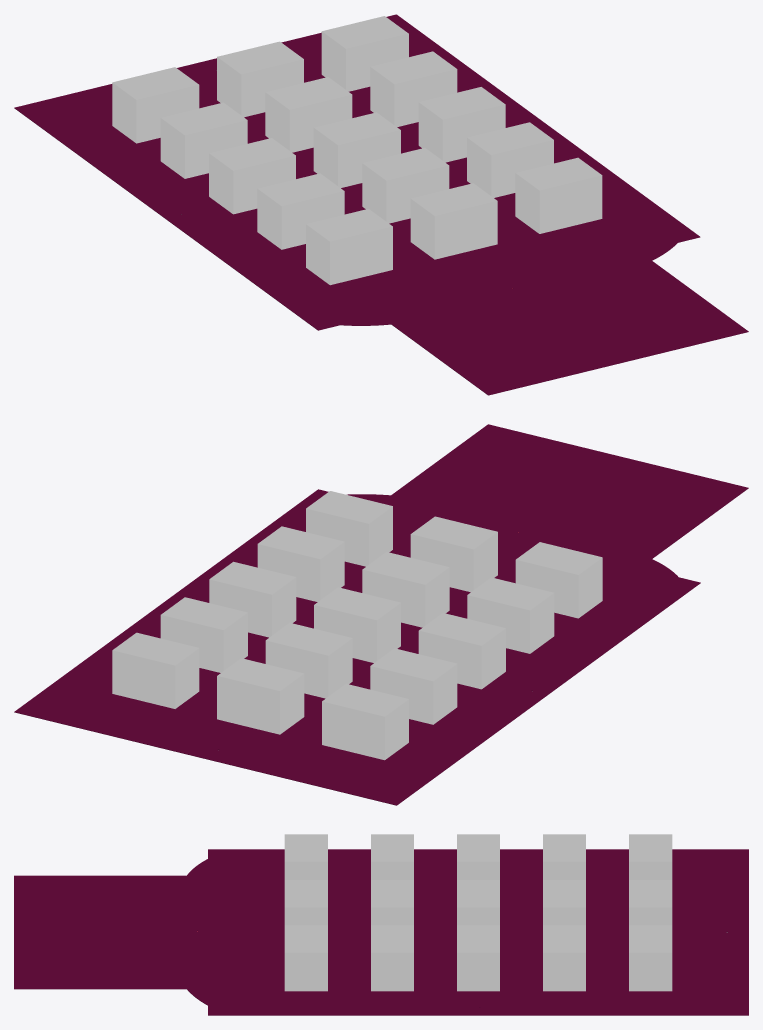
Rendered from njc-l2-hall-v6-8-5.glb.
The picture shows the model from 3 angles, top to bottom: view 1: azimuth 30°, elevation 25°; view 2: azimuth 150°, elevation 25°; view 3: azimuth 270°, elevation 25°; orthographic projection. The views are drawn at different scales.
Parts seen in each view (by area): view 1: Base, H1, H2, H3, H6, H15, H12, H9, H13, H8, H11, H12.001 (+4 smaller); view 2: Base, H14, H13, H15, H6, H9, H12, H3, H4, H7, H5, H12.001 (+4 smaller); view 3: Base, H13, H1, H11, H7, H4, H3, H15, H14, H2, H6, H9 (+4 smaller).
Part boxes in pixels (box(x1,y1,x2,y2)): Base: box(14, 14, 748, 395); H1: box(515, 157, 602, 233); H2: box(410, 183, 497, 259); H3: box(306, 209, 392, 285); H6: box(257, 173, 344, 249); H15: box(112, 67, 199, 143); H12: box(160, 102, 247, 178); H9: box(209, 138, 295, 214); H13: box(321, 16, 408, 91); H8: box(313, 112, 400, 187); H11: box(370, 51, 457, 126); H12.001: box(265, 77, 352, 152); Base: box(14, 424, 748, 805); H14: box(217, 658, 304, 734); H13: box(112, 632, 199, 708); H15: box(322, 683, 408, 760); H6: box(467, 577, 554, 653); H9: box(418, 613, 505, 689); H12: box(370, 648, 457, 724); H3: box(515, 542, 602, 618); H4: box(257, 526, 344, 601); H7: box(209, 561, 296, 637); H5: box(362, 552, 449, 627); H12.001: box(265, 623, 352, 698); Base: box(14, 849, 748, 1015); H13: box(629, 925, 672, 991); H1: box(284, 925, 327, 991); H11: box(543, 925, 585, 991); H7: box(457, 925, 499, 991); H4: box(371, 925, 413, 991); H3: box(284, 834, 327, 879); H15: box(629, 834, 672, 879); H14: box(629, 880, 672, 925); H2: box(284, 880, 327, 925); H6: box(371, 834, 413, 879); H9: box(457, 834, 499, 879).
Bounding box in the file's own units: 1.83 × 0.2 × 3.42.
